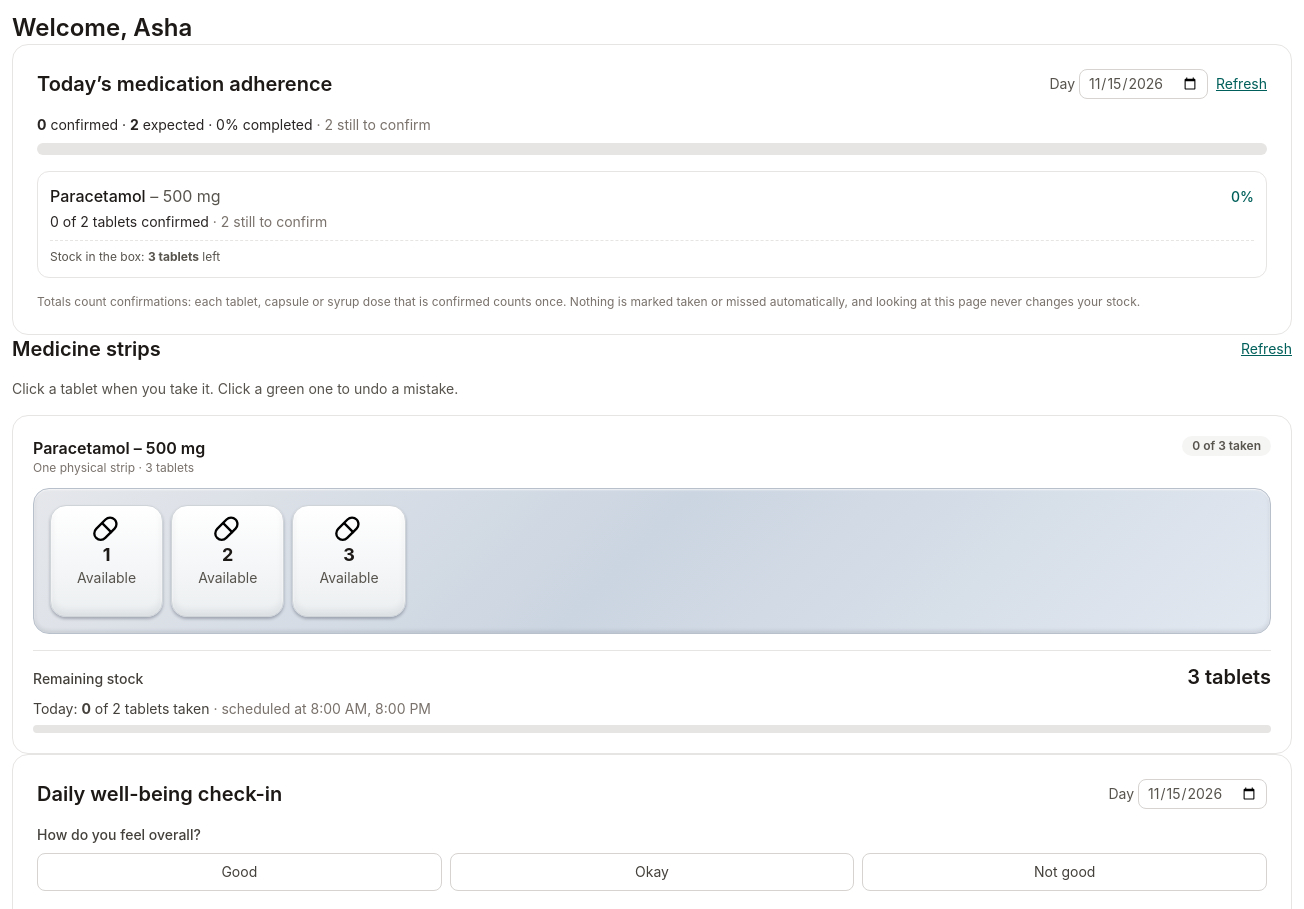
Scenario: parent dashboard › keeps the tablet strip working, and confirming a tablet refreshes the adherence summary
Expected: the text "0 confirmed · 2 expected · 0% completed · 2 still to confirm" is shown, left=37, top=116, right=431, bottom=133
Click the button with aria-label "Tablet 2, available": (228, 561) left=171, top=505, right=284, bottom=617
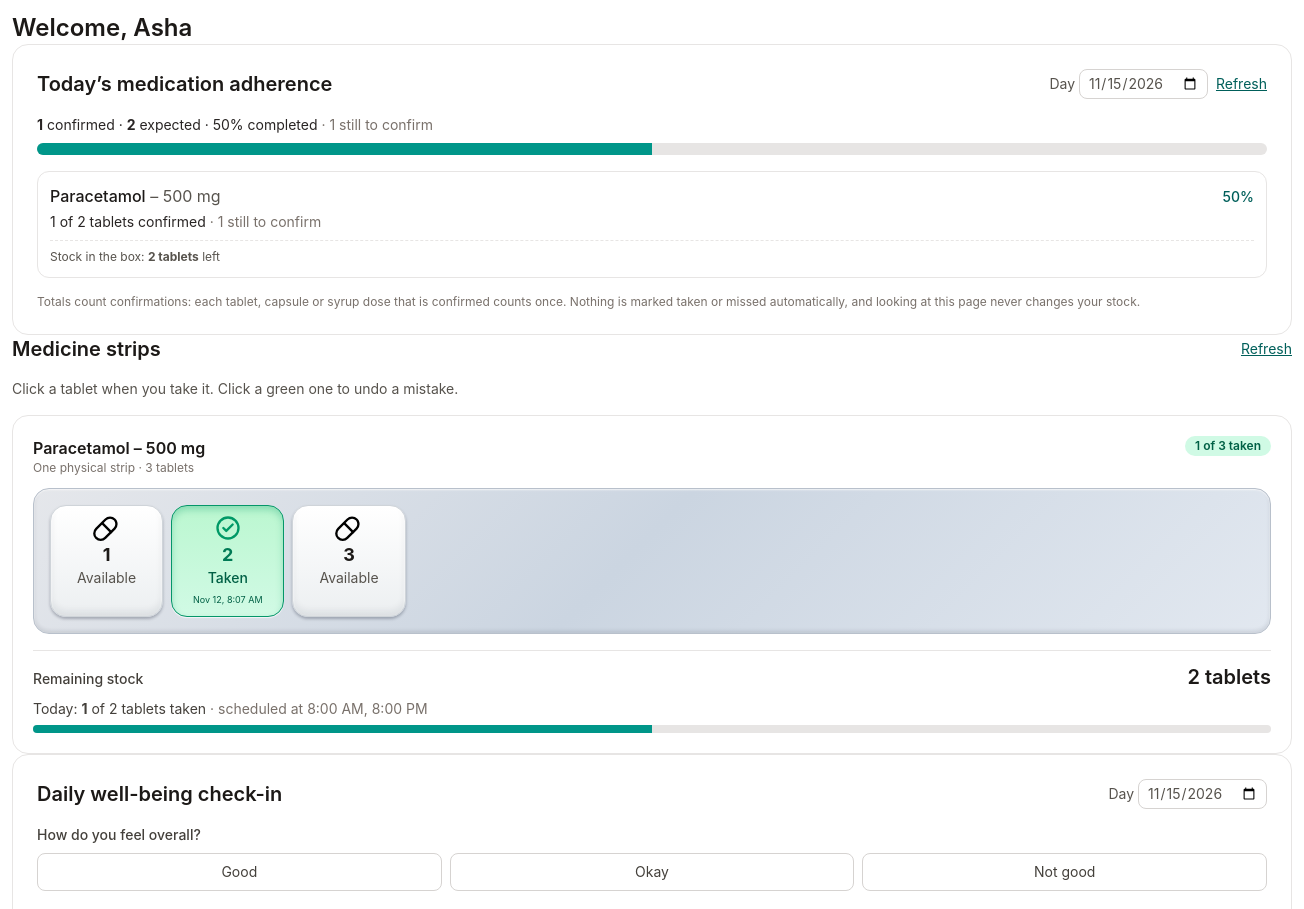
Expected: the text "50% completed" is shown, left=37, top=116, right=433, bottom=133
Expected: the list item "Paracetamol" shows "1 of 2 tablets confirmed", left=50, top=213, right=206, bottom=230
